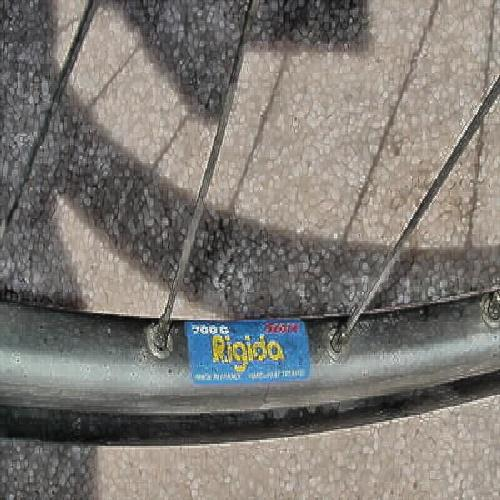bicycle: (34, 87, 489, 450)
